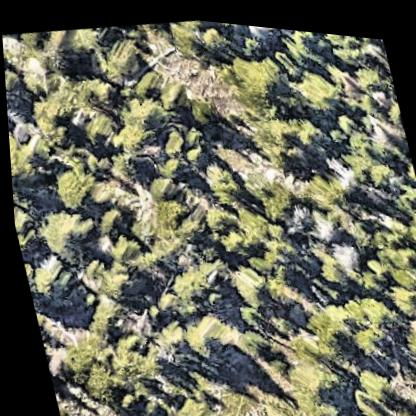tree-top: (325, 275, 402, 357), (29, 194, 96, 267), (225, 38, 290, 104), (59, 335, 121, 404), (89, 26, 154, 91), (174, 301, 238, 362), (116, 80, 174, 139), (290, 51, 346, 112), (45, 157, 103, 215), (161, 254, 220, 308), (295, 151, 349, 208), (22, 253, 73, 307), (31, 76, 85, 127), (96, 335, 147, 389), (6, 122, 43, 191), (221, 250, 269, 303), (194, 148, 242, 200), (144, 310, 190, 364), (75, 101, 121, 149), (156, 381, 217, 416), (229, 195, 273, 241), (349, 352, 392, 399), (256, 108, 296, 157), (259, 209, 298, 259), (10, 186, 39, 249), (85, 294, 127, 337), (84, 168, 126, 210), (150, 184, 191, 226), (166, 201, 207, 242), (392, 293, 416, 358), (310, 307, 349, 347), (327, 228, 365, 268), (210, 216, 249, 254), (103, 266, 141, 304), (262, 180, 299, 218), (90, 198, 129, 234), (184, 86, 220, 125), (105, 227, 140, 267), (231, 319, 268, 356), (67, 21, 107, 55), (199, 197, 236, 233), (383, 270, 416, 310), (195, 17, 232, 52), (314, 26, 365, 51), (349, 51, 384, 87), (143, 166, 179, 201), (290, 109, 325, 145), (298, 361, 335, 395), (75, 65, 108, 102), (364, 150, 398, 183), (179, 115, 210, 149), (143, 231, 174, 259), (401, 194, 416, 248), (387, 235, 416, 261), (330, 100, 357, 127), (267, 251, 293, 278), (350, 401, 389, 416), (4, 67, 24, 96), (130, 395, 157, 416), (368, 249, 392, 271), (398, 148, 416, 177), (347, 144, 369, 167), (112, 388, 133, 411), (266, 403, 295, 416), (2, 33, 12, 64), (411, 399, 416, 416)
